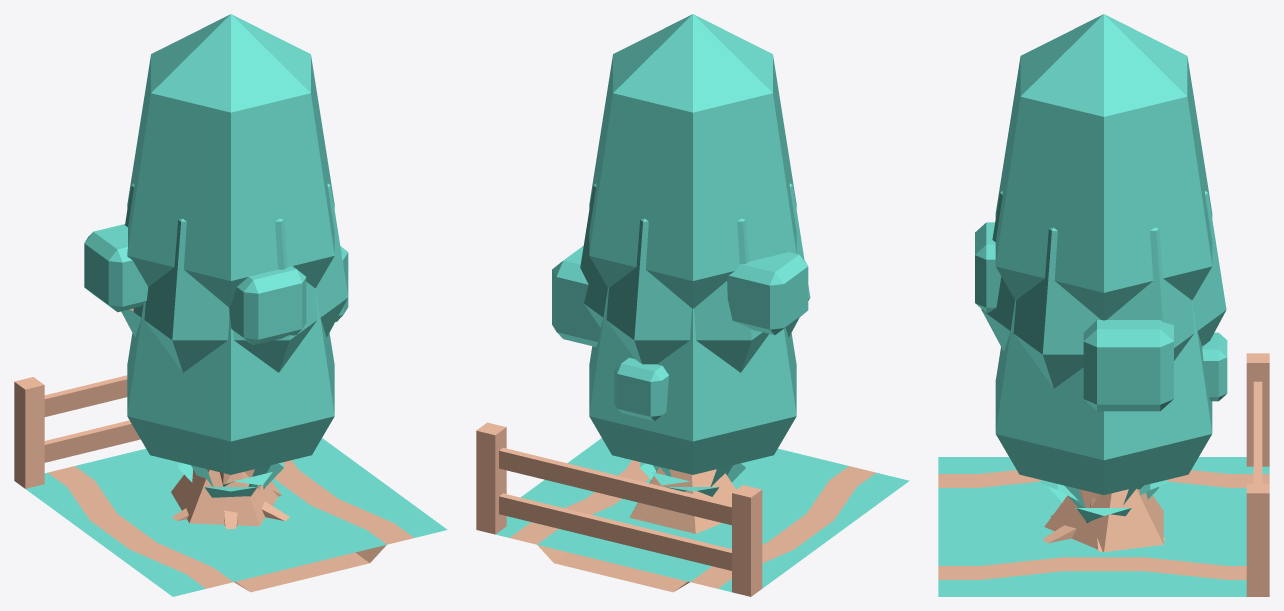
Rendered from nature.glb.
3 renders of one model, left to right at view 1: azimuth 30°, elevation 25°; view 2: azimuth 150°, elevation 25°; view 3: azimuth 270°, elevation 25°, orthographic. The views are drawn at different scales.
Visible parts, largest first — view 1: tree_default, tree_fat, ground_pathStraight, ground_grass, tree_oak, tree_detailed, fence_simple, rock_smallA, plant_bushLarge; view 2: tree_default, tree_fat, fence_simple, ground_pathStraight, tree_oak, tree_detailed, ground_grass, rock_smallA, plant_bushLarge; view 3: tree_default, tree_fat, ground_grass, ground_pathStraight, tree_oak, tree_detailed, fence_simple, rock_smallA, plant_bushLarge.
Part boxes in pixels (box(x1,y1,x2,y2)): tree_default: box(127, 14, 334, 489); tree_fat: box(127, 288, 334, 474); ground_pathStraight: box(26, 438, 447, 596); ground_grass: box(75, 448, 386, 581); tree_oak: box(121, 183, 348, 528); tree_detailed: box(84, 224, 348, 345); fence_simple: box(14, 375, 140, 488); rock_smallA: box(171, 469, 280, 526); plant_bushLarge: box(177, 462, 284, 497); tree_default: box(589, 14, 796, 308); tree_fat: box(589, 288, 796, 474); fence_simple: box(476, 422, 762, 596); ground_pathStraight: box(496, 438, 909, 592); tree_oak: box(580, 183, 810, 520); tree_detailed: box(552, 246, 808, 420); ground_grass: box(537, 448, 848, 581); rock_smallA: box(629, 467, 736, 533); plant_bushLarge: box(639, 462, 746, 496); tree_default: box(995, 14, 1212, 516); tree_fat: box(995, 300, 1212, 494); ground_grass: box(938, 481, 1246, 565); ground_pathStraight: box(938, 457, 1269, 596); tree_oak: box(981, 191, 1226, 551); tree_detailed: box(975, 222, 1227, 411); fence_simple: box(1246, 353, 1269, 596); rock_smallA: box(1044, 489, 1163, 552); plant_bushLarge: box(1048, 485, 1159, 522).
Size of the model in its own units: 1 by 1.76 by 1.
